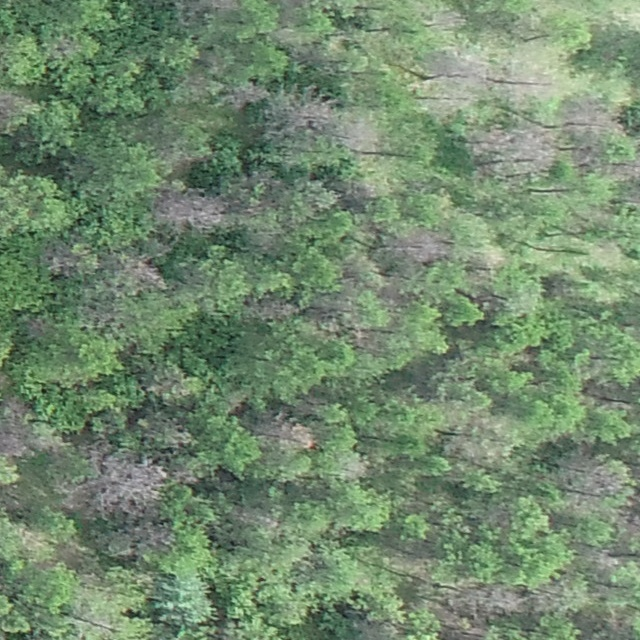unhealthy: (62, 456, 169, 516), (472, 125, 556, 177), (445, 403, 514, 465), (556, 453, 622, 511), (265, 85, 332, 131), (441, 580, 528, 614), (154, 190, 225, 230), (228, 170, 285, 216), (561, 101, 623, 140), (106, 522, 175, 556), (431, 49, 489, 87), (425, 604, 486, 640), (317, 311, 376, 348), (117, 252, 170, 293), (397, 230, 455, 264), (45, 241, 102, 274), (0, 403, 32, 461), (500, 61, 551, 97), (416, 86, 476, 116), (341, 248, 378, 296), (336, 111, 379, 152), (143, 415, 193, 450), (147, 362, 188, 401), (243, 294, 299, 321), (224, 505, 283, 530), (81, 286, 116, 328), (573, 544, 617, 577), (533, 577, 571, 614), (269, 422, 316, 451), (564, 206, 617, 229), (31, 423, 69, 452), (0, 89, 29, 125), (572, 141, 600, 177), (465, 250, 505, 275), (429, 9, 467, 34), (346, 177, 376, 208), (291, 394, 327, 419), (16, 528, 49, 555), (229, 82, 267, 105), (605, 162, 640, 183), (593, 244, 623, 267), (48, 36, 77, 58), (169, 469, 201, 488), (343, 459, 373, 478), (28, 317, 51, 335), (275, 28, 295, 47)
